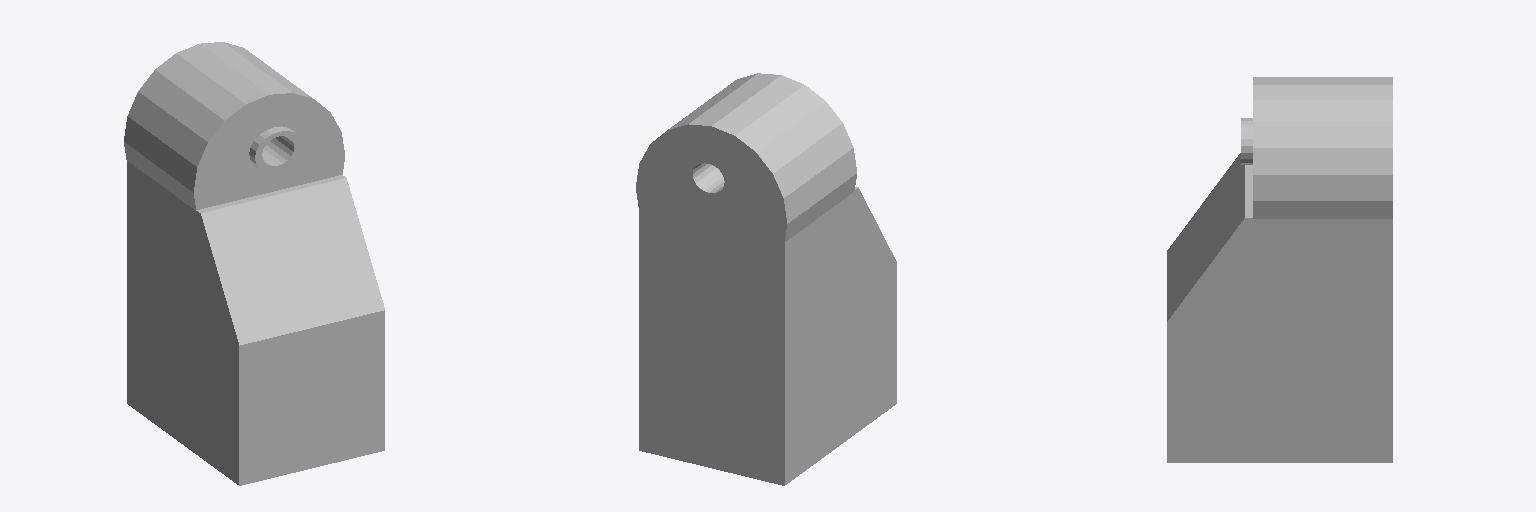
File: zonavacio.obj
3 renders of one model, left to right at view 1: azimuth 30°, elevation 25°; view 2: azimuth 150°, elevation 25°; view 3: azimuth 270°, elevation 25°, orthographic.
Visible parts, largest first — view 1: obj_0; view 2: obj_0; view 3: obj_0.
Boxes of the visible parts, x1,y1,x2,y2 form: obj_0: [124, 42, 384, 485]; obj_0: [636, 73, 896, 485]; obj_0: [1167, 77, 1392, 462].
Size of the model in its own units: 104 by 224 by 134.